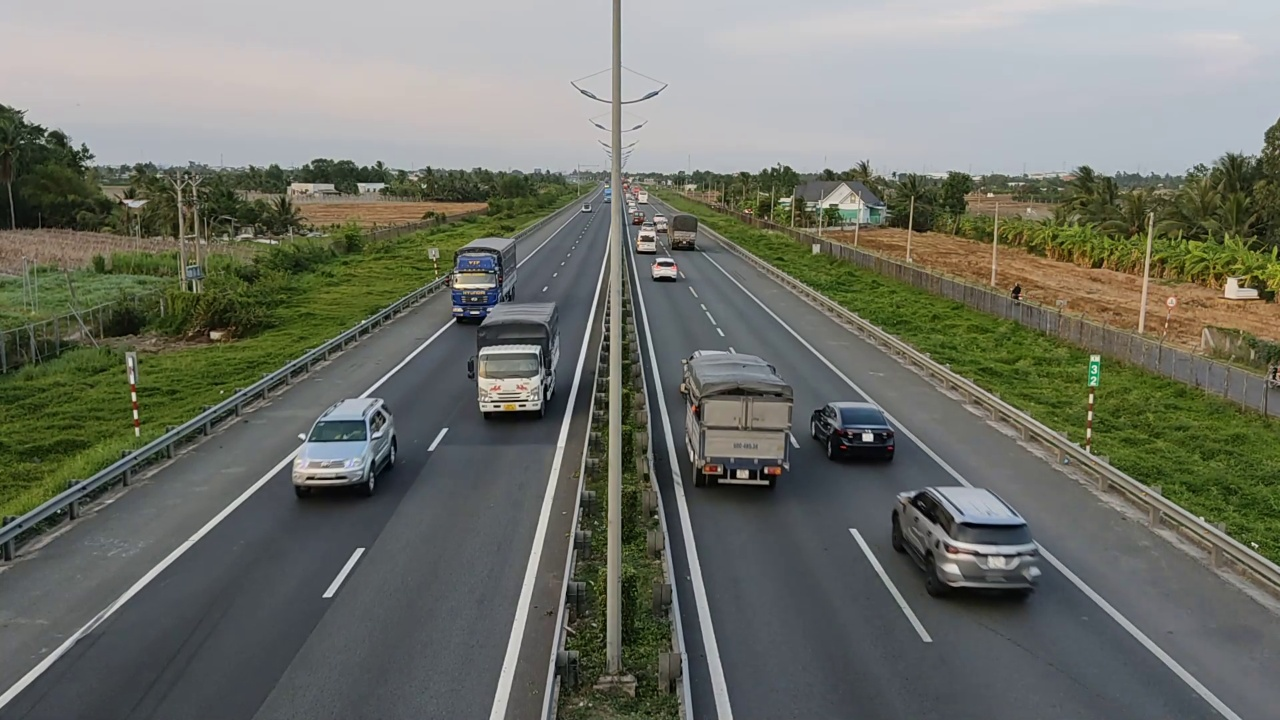car: (891, 483, 1043, 595), (291, 395, 399, 497), (809, 400, 896, 462), (650, 256, 679, 281), (635, 229, 659, 253)
truck: (679, 347, 798, 489), (468, 301, 562, 419), (450, 235, 517, 323), (667, 214, 699, 250)
